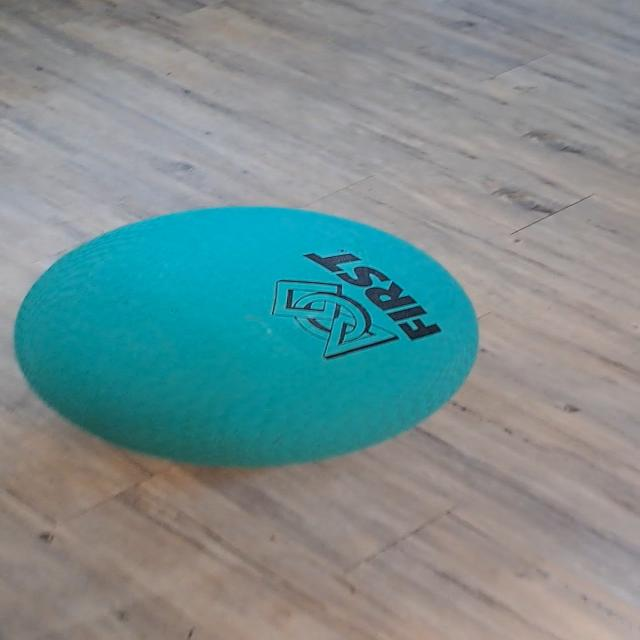ALGAE: (11, 204, 481, 470)
